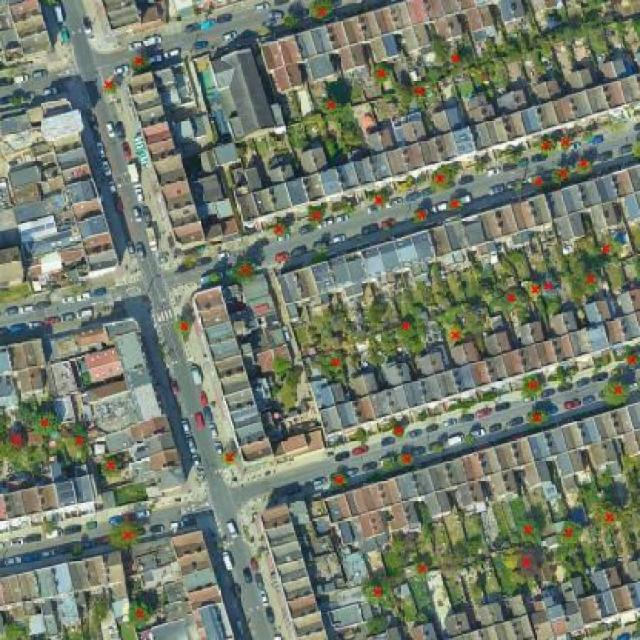tree: (551, 516, 587, 552), (108, 517, 144, 551), (360, 572, 394, 608), (124, 598, 158, 632), (590, 500, 625, 532), (513, 547, 545, 581), (601, 376, 633, 409), (413, 498, 438, 540), (65, 423, 93, 460), (316, 90, 346, 124), (512, 518, 545, 548), (428, 164, 460, 193), (558, 552, 592, 579), (314, 351, 349, 377), (502, 286, 532, 316), (30, 410, 61, 438), (2, 427, 32, 455), (335, 126, 367, 152), (266, 355, 299, 380), (396, 315, 426, 342), (428, 30, 454, 61), (576, 269, 604, 297), (537, 272, 563, 302), (518, 372, 544, 402), (476, 48, 502, 78), (231, 258, 260, 284), (12, 397, 40, 423), (286, 123, 312, 151), (364, 612, 391, 638), (330, 195, 356, 222), (524, 407, 554, 430), (216, 445, 241, 472), (98, 456, 127, 479), (542, 8, 567, 34), (305, 202, 329, 229), (554, 361, 578, 388), (127, 52, 156, 74), (621, 459, 640, 492), (370, 62, 396, 86), (534, 132, 558, 158), (548, 164, 575, 187), (309, 0, 337, 22), (329, 468, 354, 492), (572, 156, 598, 179), (2, 618, 29, 640), (595, 236, 622, 258), (413, 82, 438, 104), (448, 49, 470, 74), (172, 316, 195, 339), (391, 82, 412, 107), (97, 78, 123, 98), (413, 557, 433, 583), (523, 280, 545, 303), (390, 530, 408, 558), (352, 425, 373, 449), (92, 598, 114, 620), (446, 321, 466, 345), (271, 219, 292, 241), (514, 33, 532, 58), (532, 38, 557, 56), (372, 189, 392, 211), (460, 429, 482, 449), (621, 350, 640, 372), (444, 194, 467, 212), (503, 152, 526, 170), (40, 515, 58, 537), (310, 241, 332, 259), (396, 452, 418, 470), (180, 251, 202, 269), (412, 208, 433, 226), (283, 13, 302, 32), (554, 134, 574, 152), (472, 158, 492, 176), (530, 172, 547, 193), (389, 422, 408, 440), (381, 455, 399, 474), (626, 15, 640, 39), (205, 270, 224, 287), (429, 440, 446, 458), (626, 138, 640, 158), (80, 370, 94, 388), (71, 544, 87, 559)
